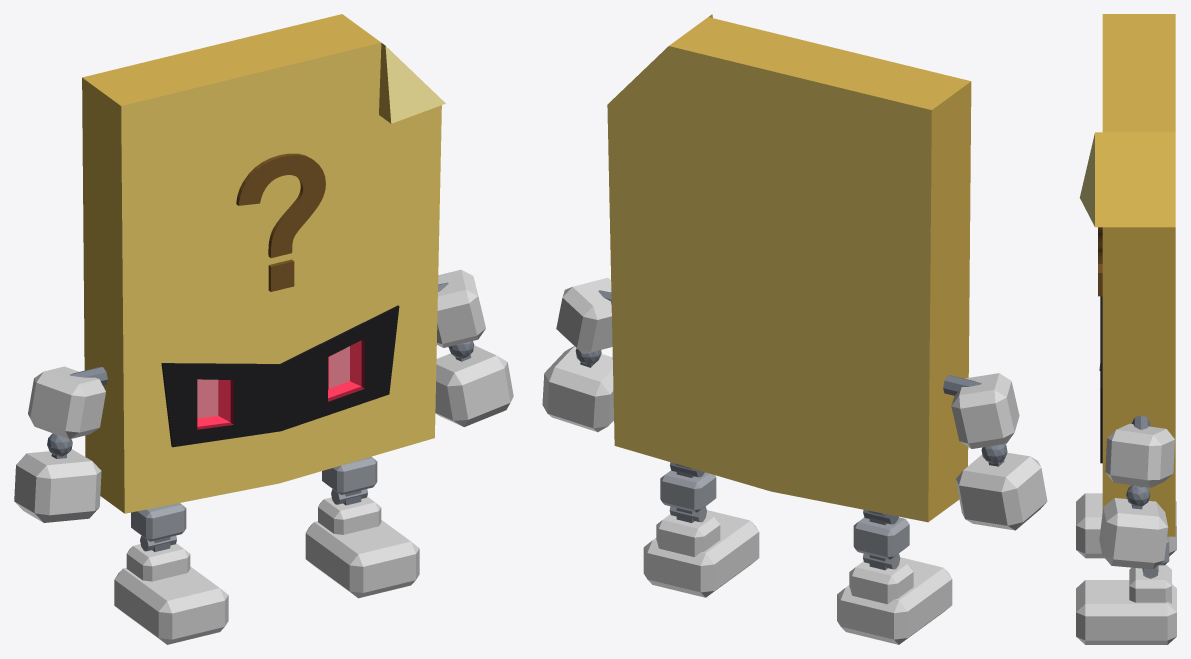
Rendered from problem_missing_details_v01_bambu_100mm_rest.glb.
The picture shows the model from 3 angles, left to right: view 1: azimuth 30°, elevation 25°; view 2: azimuth 150°, elevation 25°; view 3: azimuth 270°, elevation 25°; orthographic projection. The views are drawn at different scales.
Visible parts, largest first — view 1: missing_details; view 2: missing_details; view 3: missing_details.
Boxes of the visible parts, x1,y1,x2,y2 form: missing_details: (14, 14, 513, 644); missing_details: (542, 14, 1047, 644); missing_details: (1076, 14, 1176, 644).
Bounding box in the file's own units: 0.0927 × 0.1 × 0.0181.
1 material, 1 textured.
